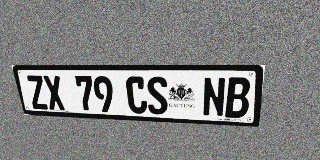7: (73, 76, 97, 112)
9: (92, 76, 115, 112)
B: (225, 77, 251, 118)
C: (125, 76, 148, 114)
N: (202, 77, 226, 117)
S: (146, 76, 168, 115)
X: (42, 76, 66, 110)
Z: (25, 75, 49, 110)
